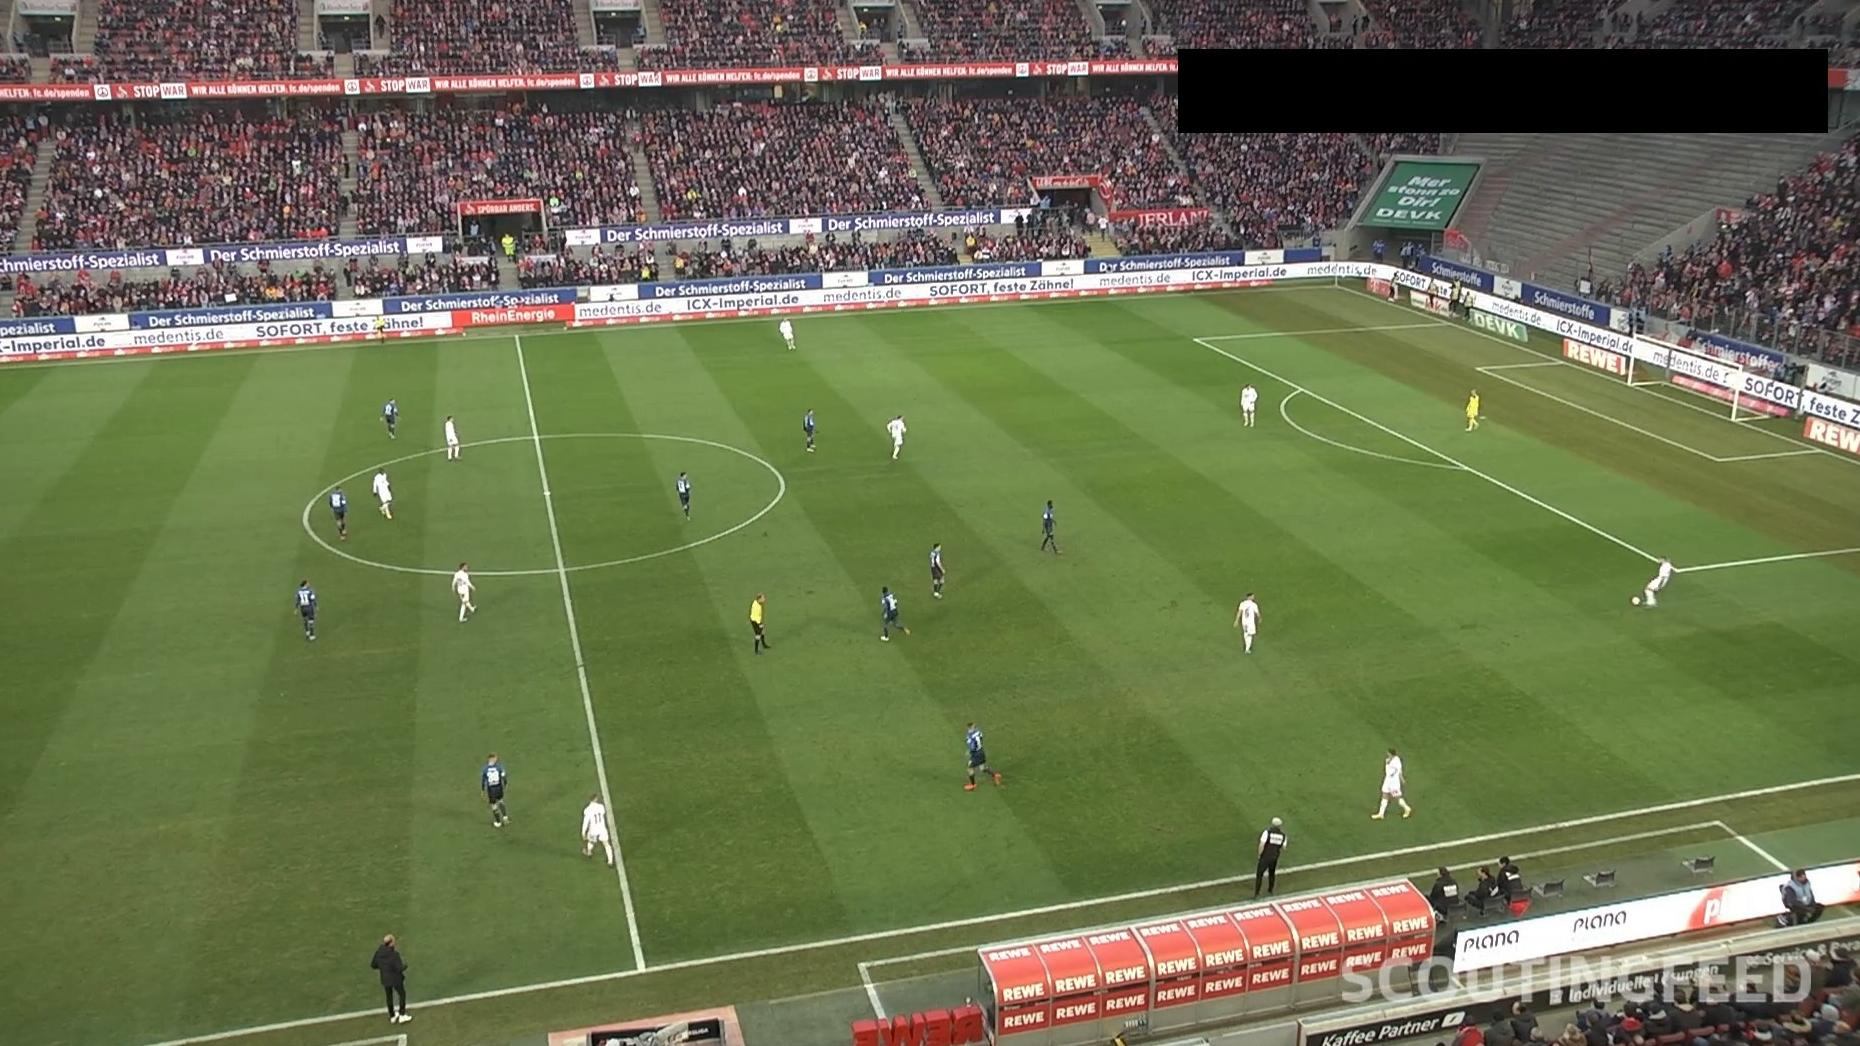ball: (1630, 595, 1642, 607)
